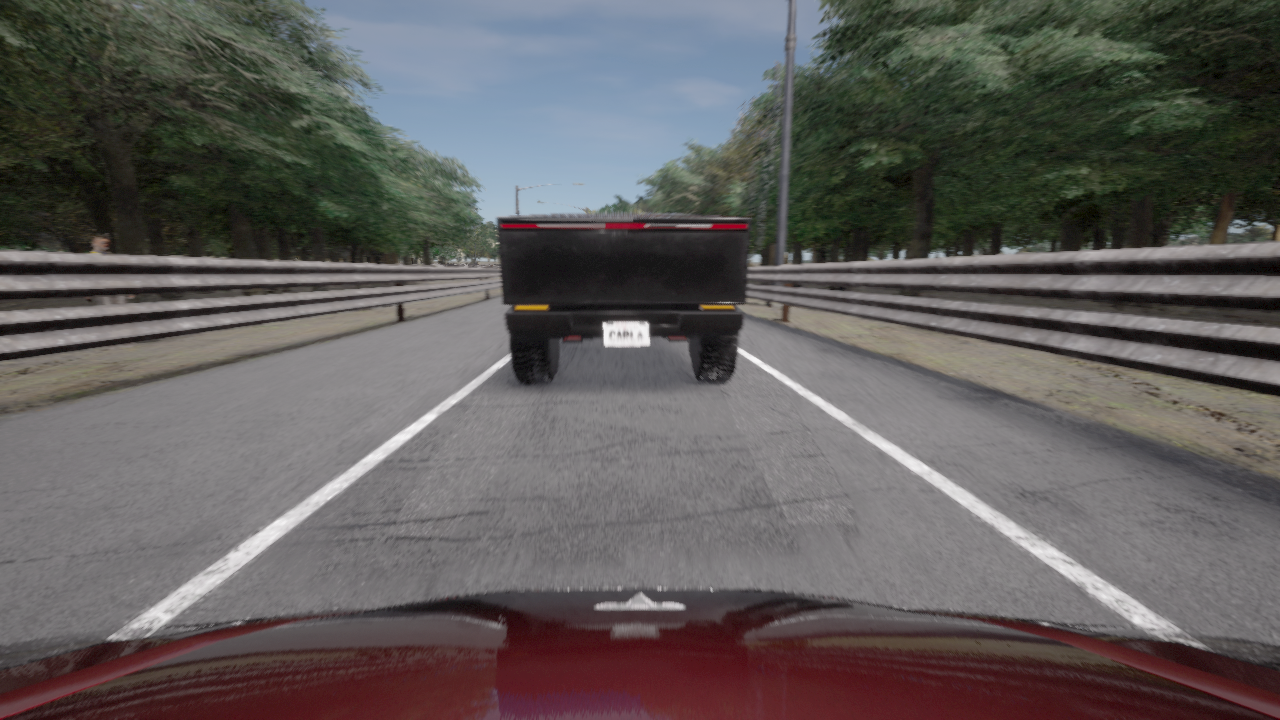cyclist: (0, 588, 1279, 719), (497, 214, 750, 383)
pedestrian: (84, 234, 135, 348)
